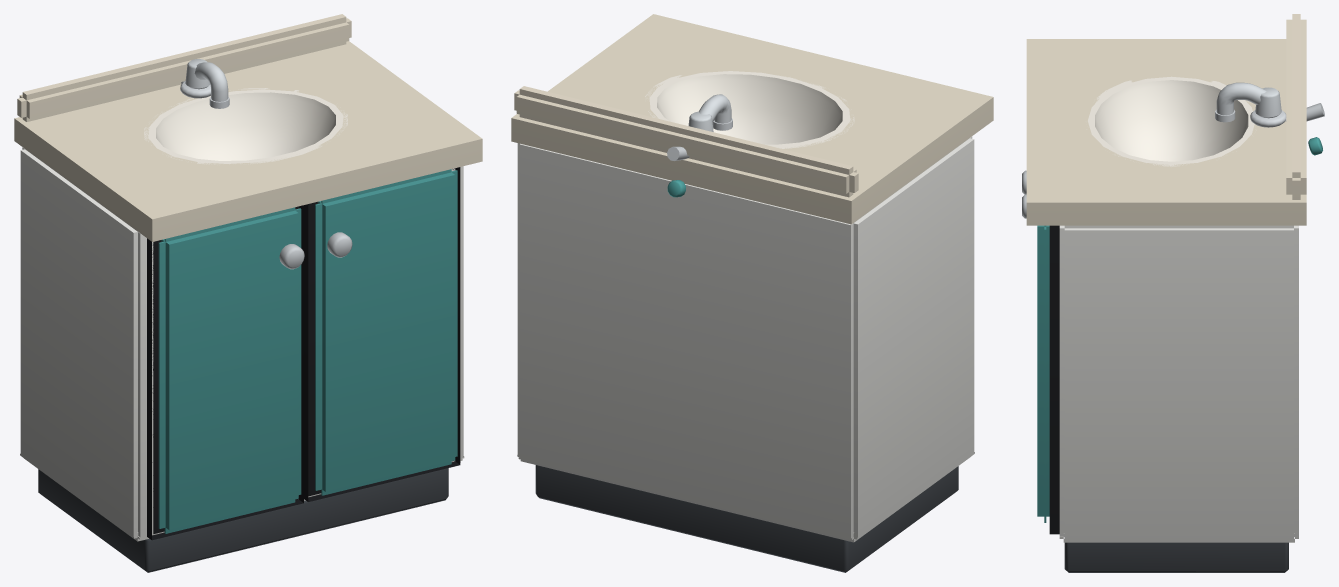
File: Vanity_Sink_01.glb
3 views of the same model, side by side, from view 1: azimuth 30°, elevation 25°; view 2: azimuth 150°, elevation 25°; view 3: azimuth 270°, elevation 25° (orthographic). The views are drawn at different scales.
Visible parts, largest first — view 1: SM_Vanity_Sink_01; view 2: SM_Vanity_Sink_01; view 3: SM_Vanity_Sink_01.
Part boxes in pixels (x1,y1,x2,y2): SM_Vanity_Sink_01: (14, 14, 482, 572); SM_Vanity_Sink_01: (511, 14, 993, 572); SM_Vanity_Sink_01: (1022, 14, 1324, 572).
Bounding box in the file's own units: 0.76 × 0.901 × 0.5949.
1 material, 1 textured.
